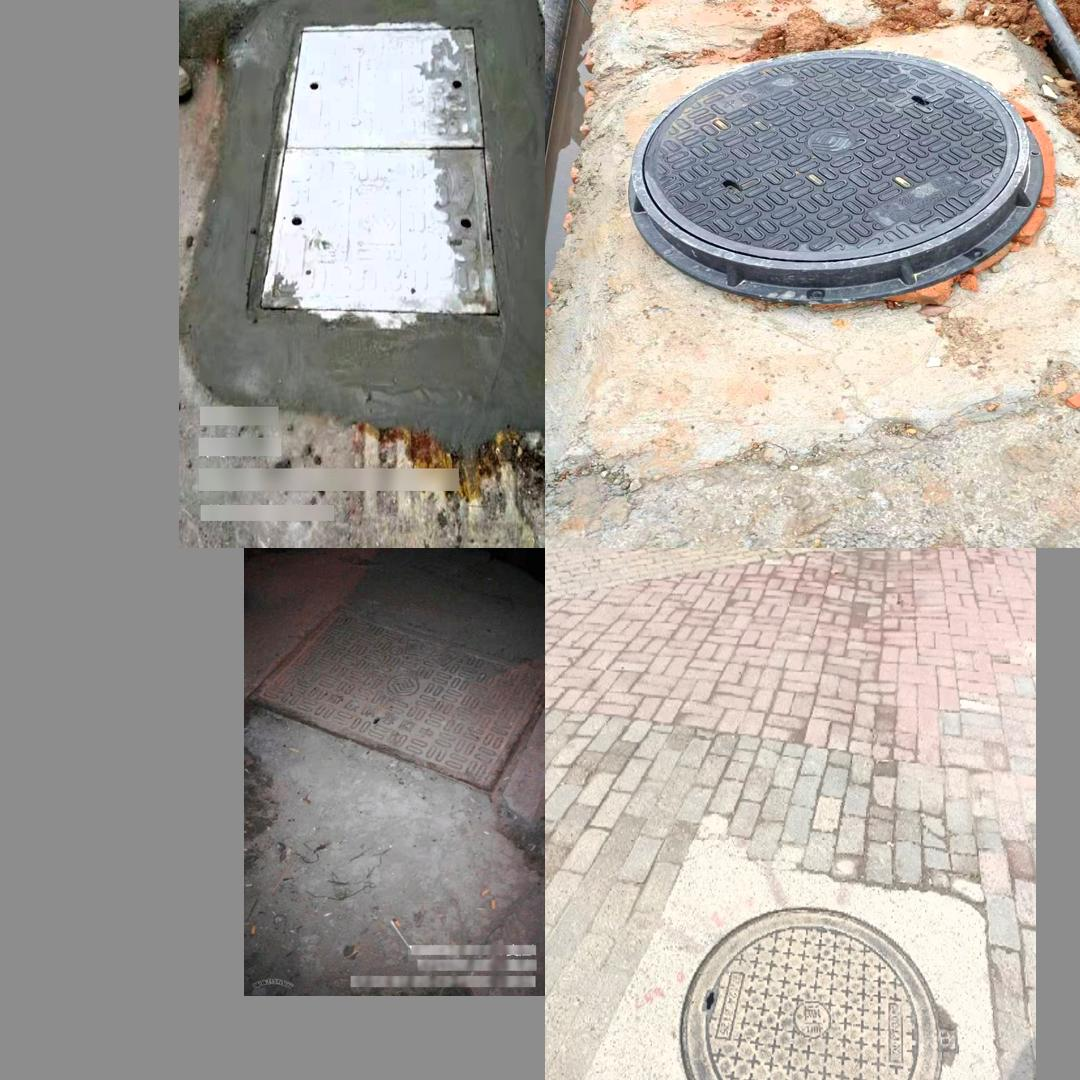good: (626, 51, 1043, 304), (246, 21, 503, 325), (244, 604, 544, 796), (686, 901, 944, 1080)
